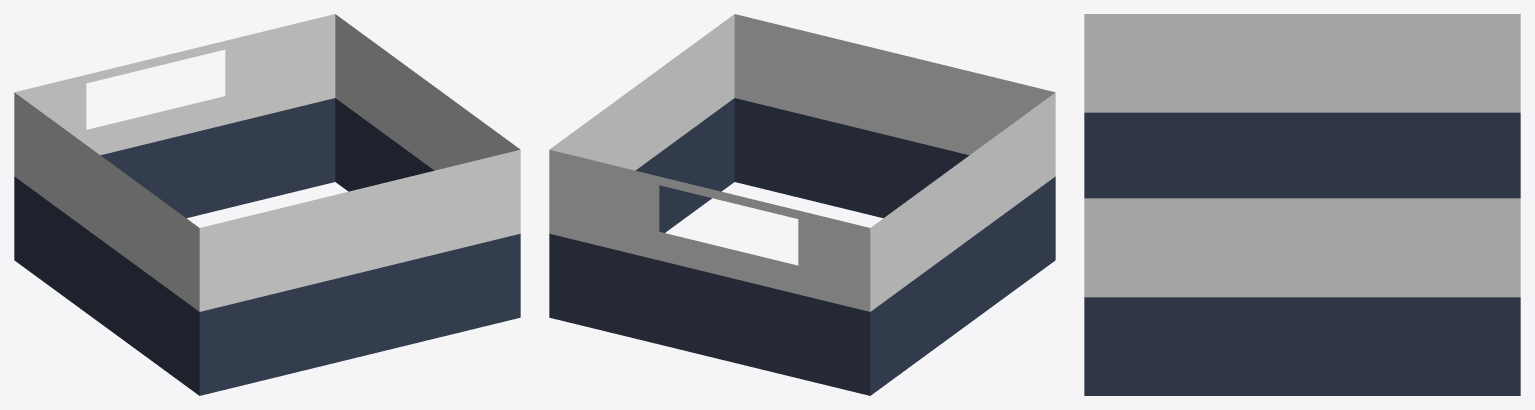
File: Parede.FBX
The picture shows the model from 3 angles, left to right: view 1: azimuth 30°, elevation 25°; view 2: azimuth 150°, elevation 25°; view 3: azimuth 270°, elevation 25°; orthographic projection. The views are drawn at different scales.
Visible parts, largest first — view 1: paredes; view 2: paredes; view 3: paredes.
Boxes of the visible parts, x1,y1,x2,y2 form: paredes: [14, 14, 520, 395]; paredes: [549, 14, 1055, 395]; paredes: [1084, 14, 1520, 395].
Size of the model in its own units: 600 by 300 by 600.
